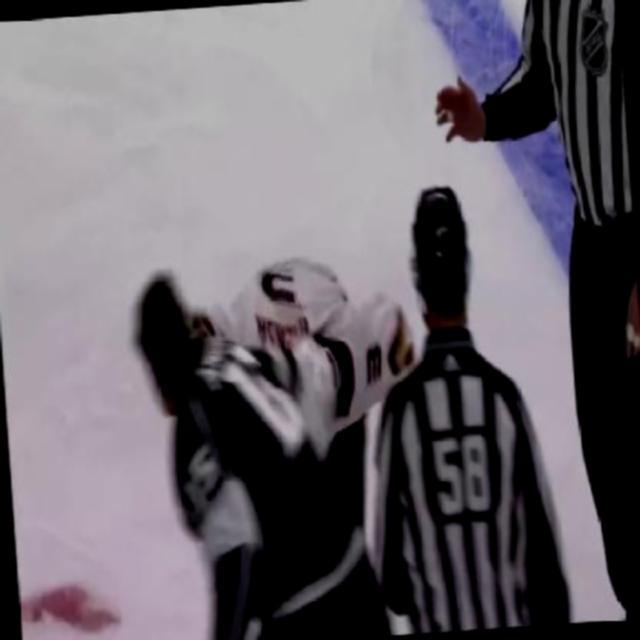fight: (116, 220, 430, 638)
non-fight: (359, 178, 570, 634)
